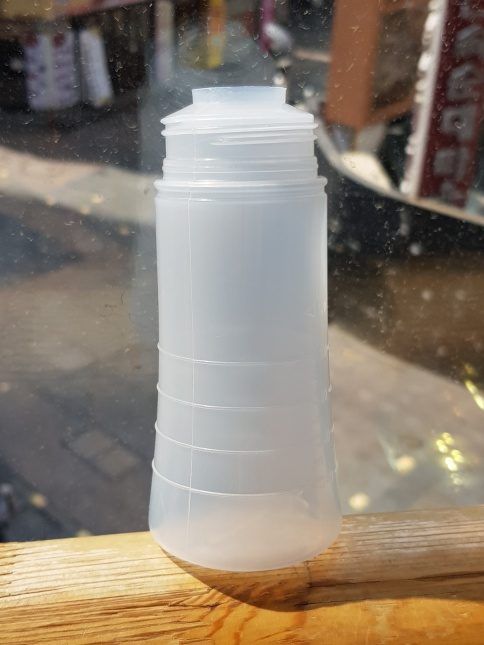Plastic: (142, 75, 348, 576)
